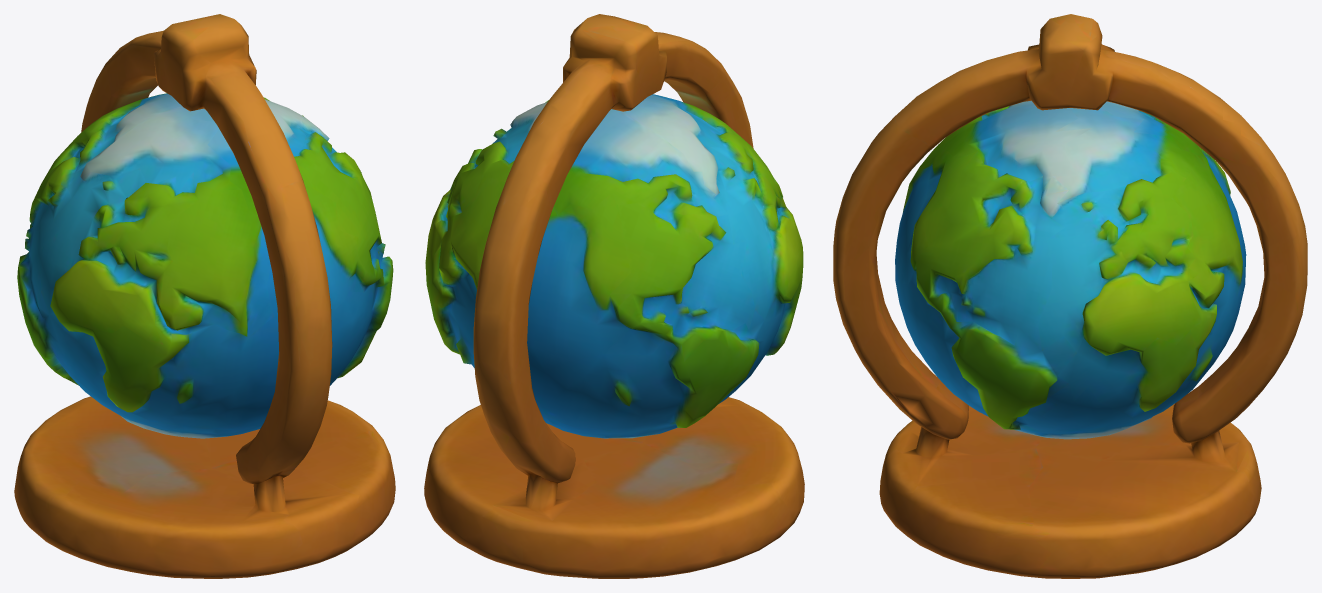
File: globe.glb
3 renders of one model, left to right at view 1: azimuth 30°, elevation 25°; view 2: azimuth 150°, elevation 25°; view 3: azimuth 270°, elevation 25°, orthographic.
Visible parts, largest first — view 1: tripo_node_2d256ff6-2a63-4af2-a156-66ddd3a23ba9; view 2: tripo_node_2d256ff6-2a63-4af2-a156-66ddd3a23ba9; view 3: tripo_node_2d256ff6-2a63-4af2-a156-66ddd3a23ba9.
Part boxes in pixels (box(x1,y1,x2,y2)): tripo_node_2d256ff6-2a63-4af2-a156-66ddd3a23ba9: box(14, 14, 395, 578); tripo_node_2d256ff6-2a63-4af2-a156-66ddd3a23ba9: box(424, 14, 804, 578); tripo_node_2d256ff6-2a63-4af2-a156-66ddd3a23ba9: box(833, 14, 1307, 578).
Size of the model in its own units: 0.1806 by 0.25 by 0.2245.
Materials: 1 (1 with a texture image).
